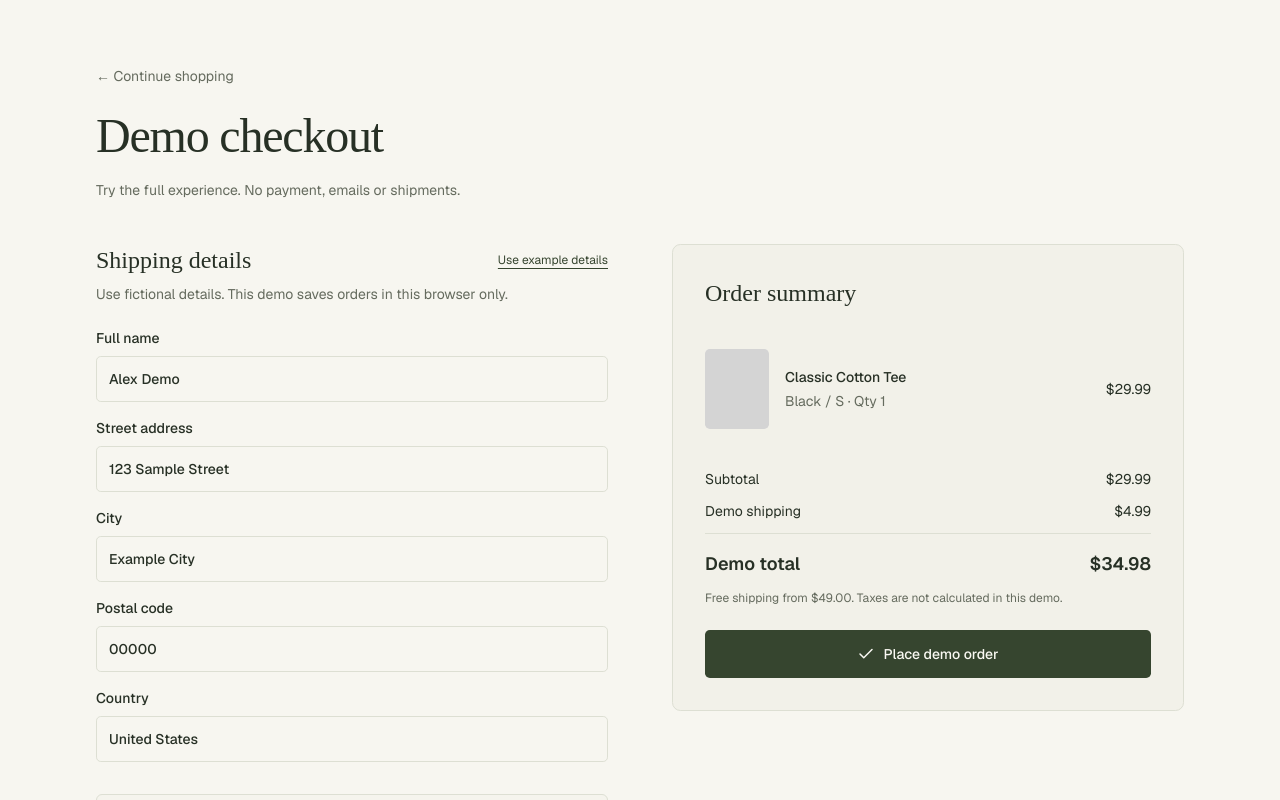
Test: leaves the cart intact when an order cannot be saved
What coordinates should you click on to do the following:
click the button "Place demo order"
I would click on:
 (928, 654)
Its box is [705,630,1151,678].
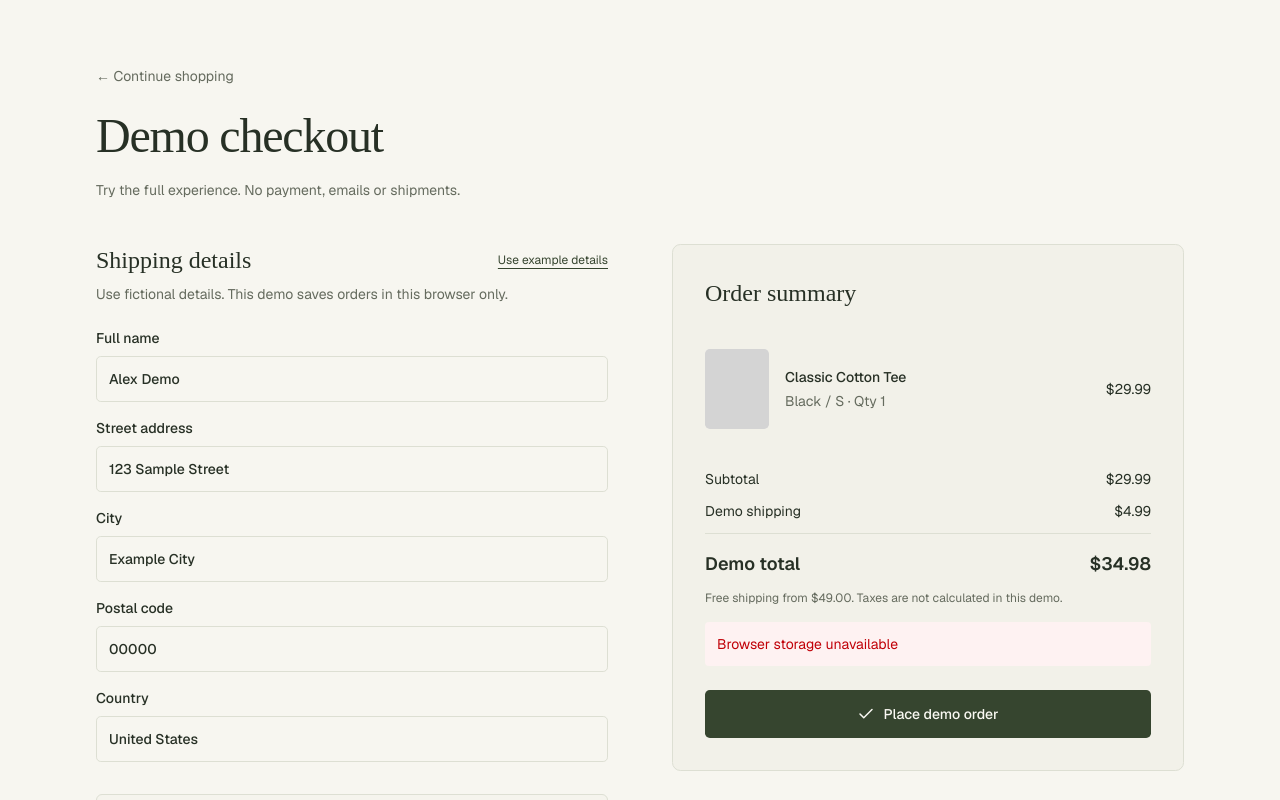
Expected: the button "Place demo order" is enabled, [705,690,1151,738]
Result: the message reads "Browser storage unavailable" at [717,635,898,653]
